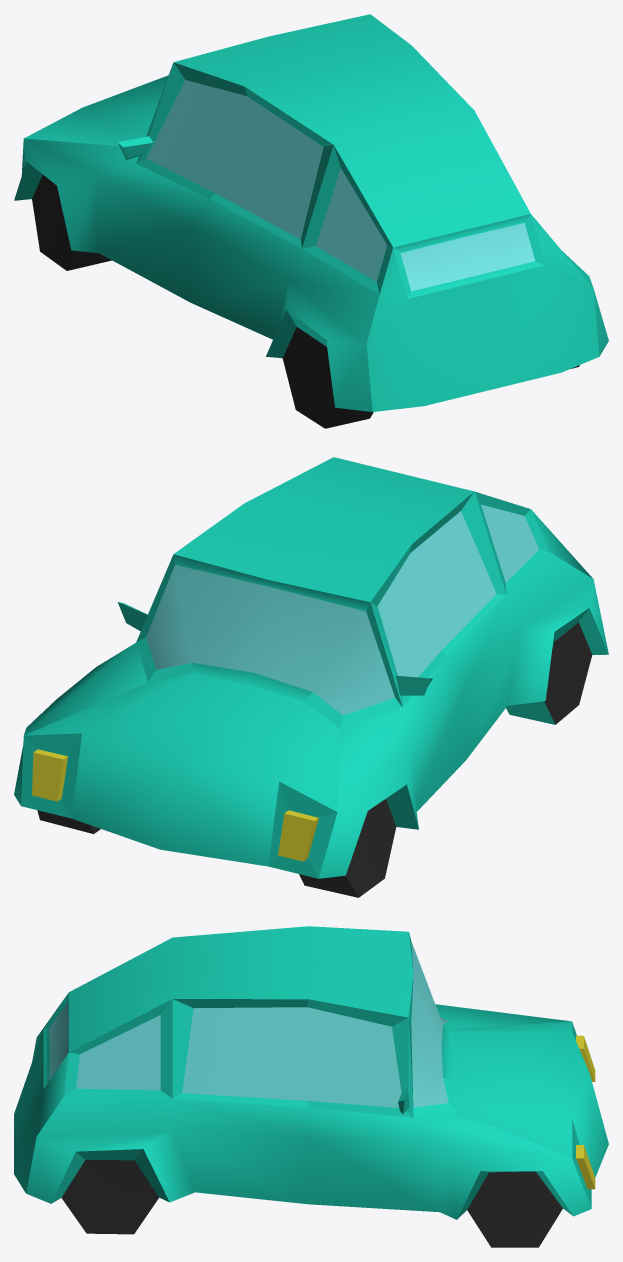
Rendered from carTealBug.fbx.
3 views of the same model, one above another, from view 1: azimuth 30°, elevation 25°; view 2: azimuth 150°, elevation 25°; view 3: azimuth 270°, elevation 25° (orthographic). The views are drawn at different scales.
Visible parts, largest first — view 1: pCylinder3; view 2: pCylinder3; view 3: pCylinder3.
Boxes of the visible parts, x1,y1,x2,y2 form: pCylinder3: (14, 14, 608, 428); pCylinder3: (14, 457, 608, 897); pCylinder3: (14, 926, 608, 1247).
Size of the model in its own units: 130 by 85.75 by 214.
